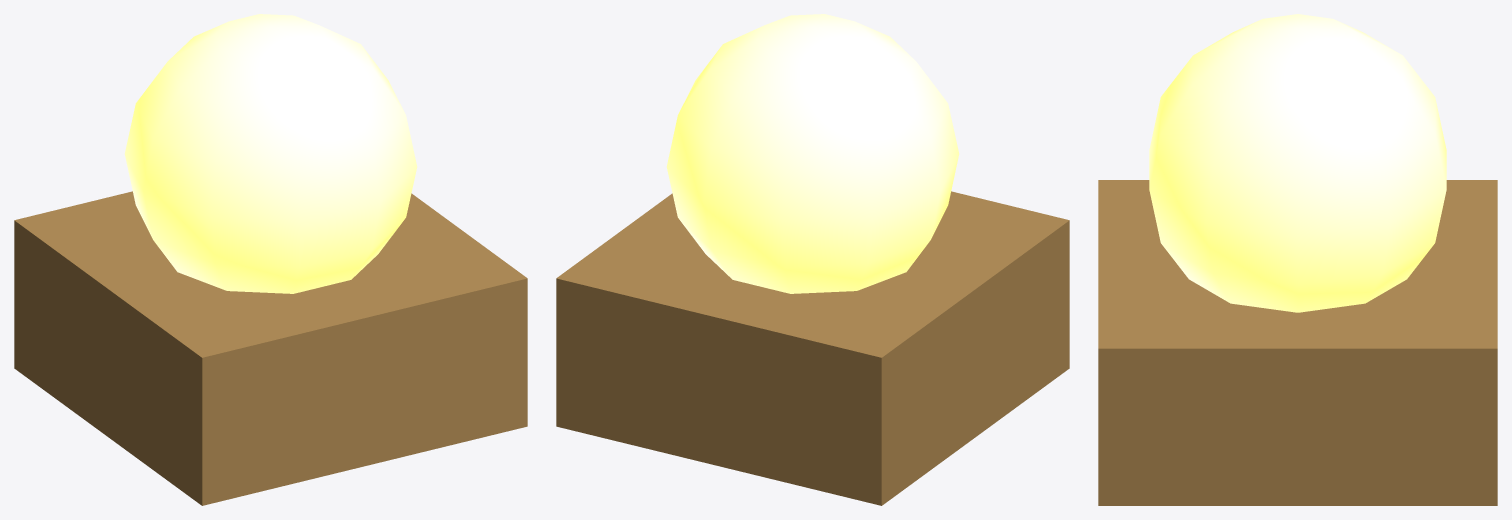
The model's file is footlight.glb.
The picture shows the model from 3 angles, left to right: view 1: azimuth 30°, elevation 25°; view 2: azimuth 150°, elevation 25°; view 3: azimuth 270°, elevation 25°; orthographic projection. The views are drawn at different scales.
Parts seen in each view (by area): view 1: base, bulb; view 2: base, bulb; view 3: base, bulb.
Part boxes in pixels (x1,y1,x2,y2): base: (14, 191, 527, 505); bulb: (124, 14, 417, 293); base: (556, 191, 1069, 505); bulb: (666, 14, 959, 293); base: (1098, 180, 1497, 505); bulb: (1149, 14, 1446, 312).
Size of the model in its own units: 0.23 by 0.25 by 0.23.
